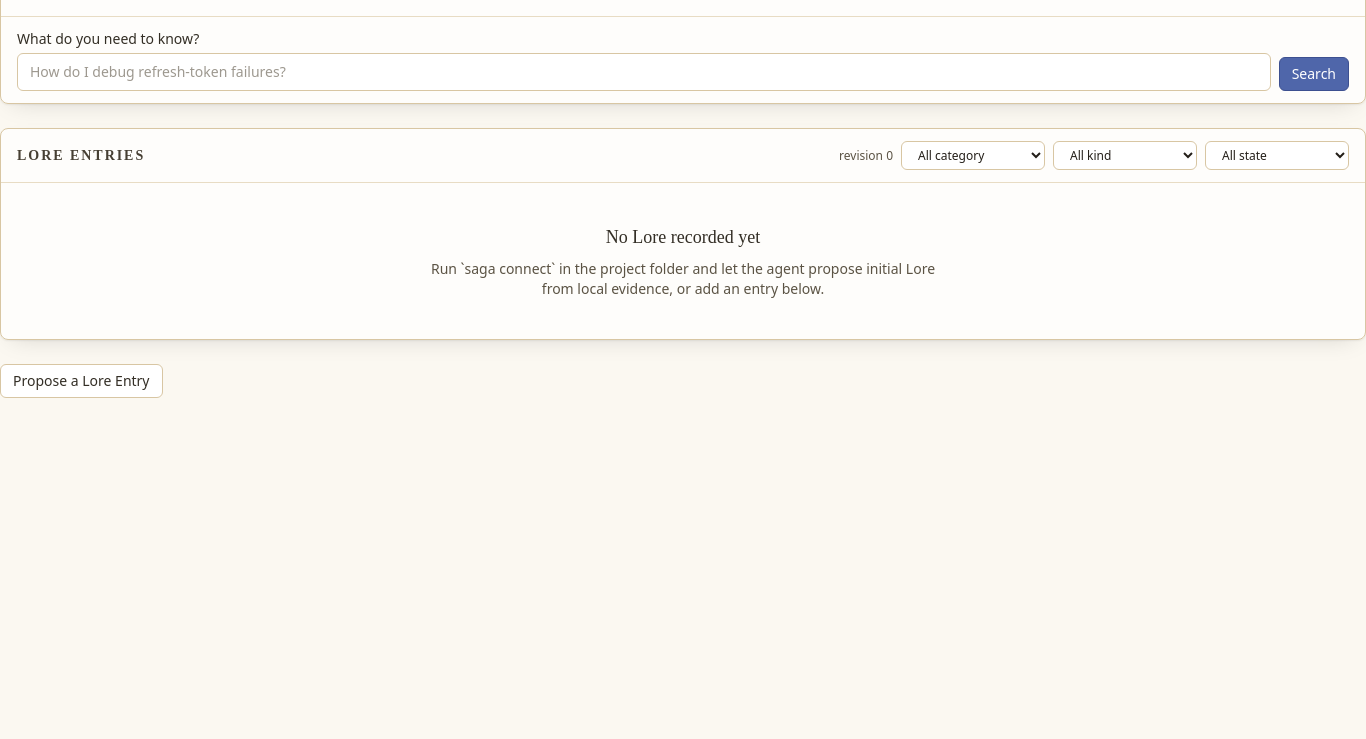
Lore page › reports a rejected proposal with the API message
Expected: the text "No Lore recorded yet" is shown, [606,227,760,247]
Click the button "Propose a Lore Entry".
click(81, 381)  # box [0,364,162,398]
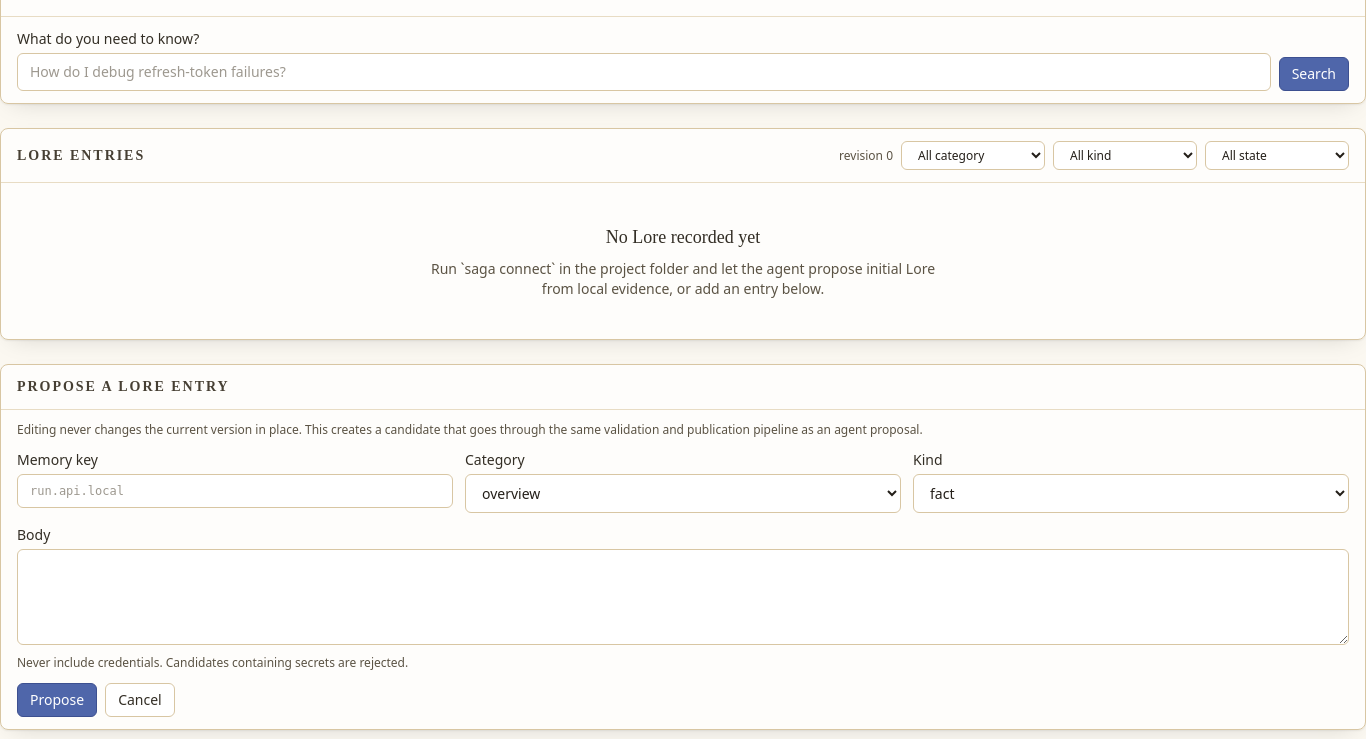
Type "config.prod" into the field labelled "Memory key".
click(235, 491); type("config.prod")  # box [17,474,453,508]
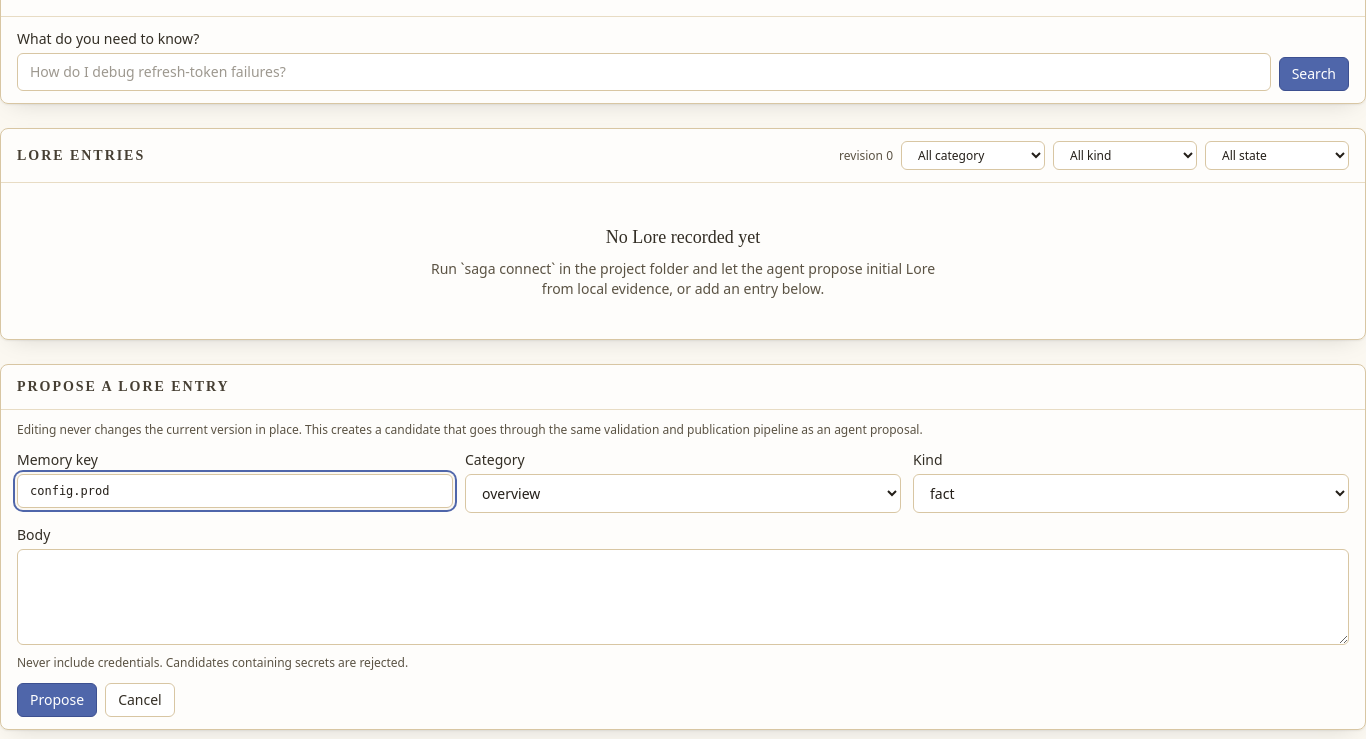
Type "DATABASE_URL=postgres://u:p@h/db" into the text box labelled "Body".
click(683, 597); type("DATABASE_URL=postgres://u:p@h/db")  # box [17,549,1349,645]
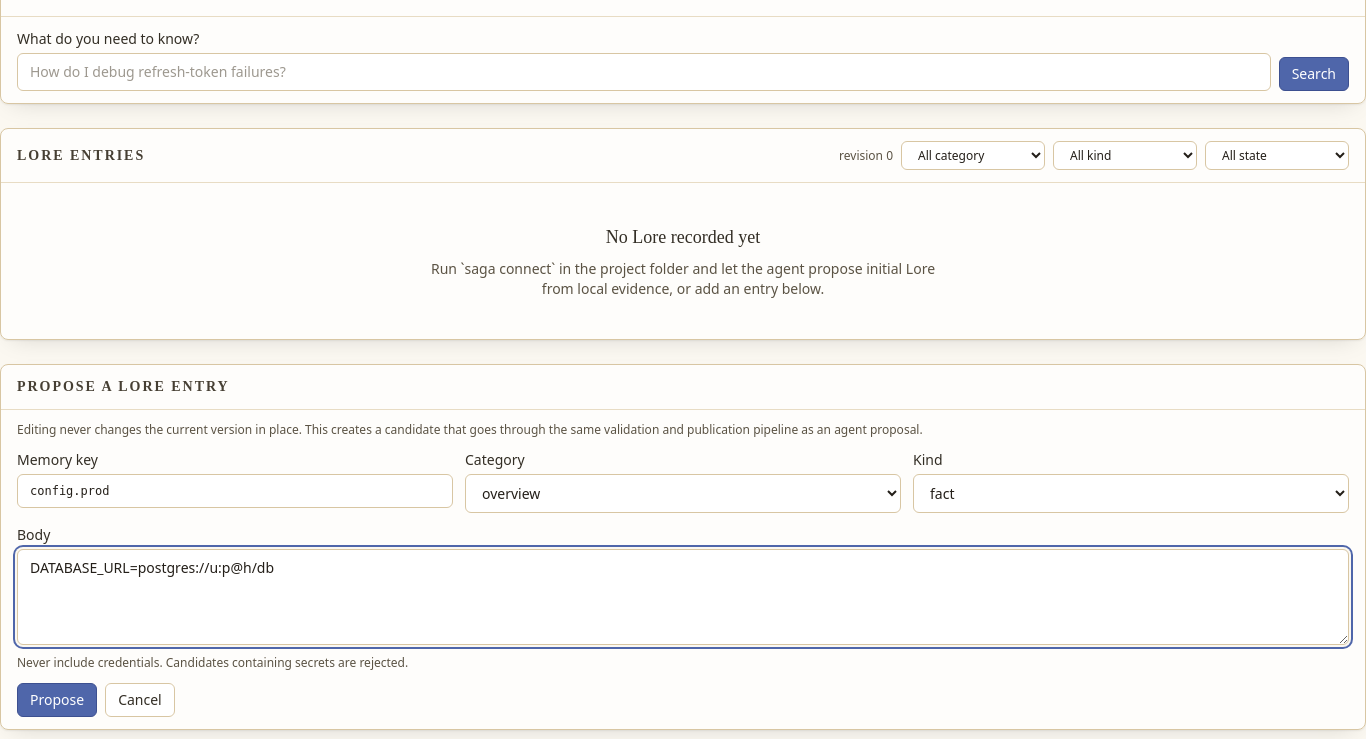
Click the button "Propose".
click(57, 700)  # box [17,683,97,717]
(page scrolled)
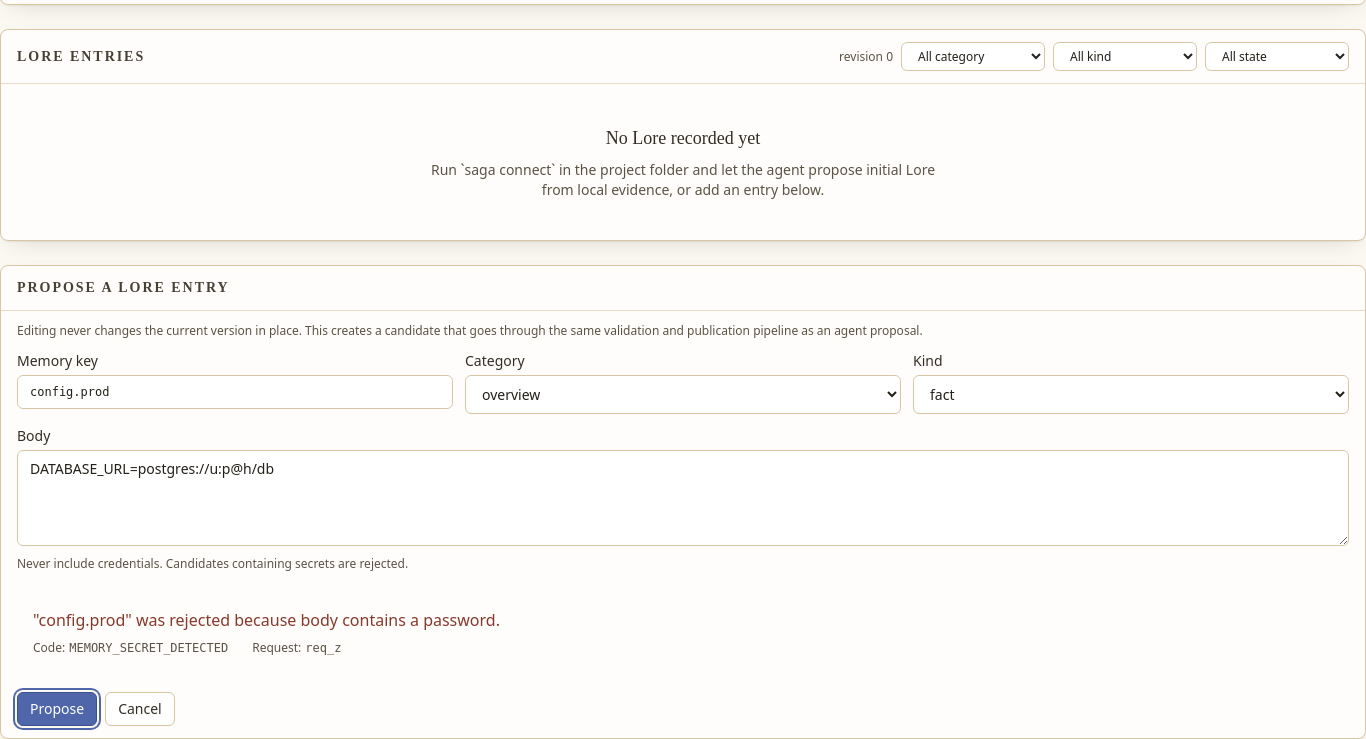
Now the message shows "MEMORY_SECRET_DETECTED", box [69,641,228,655]
